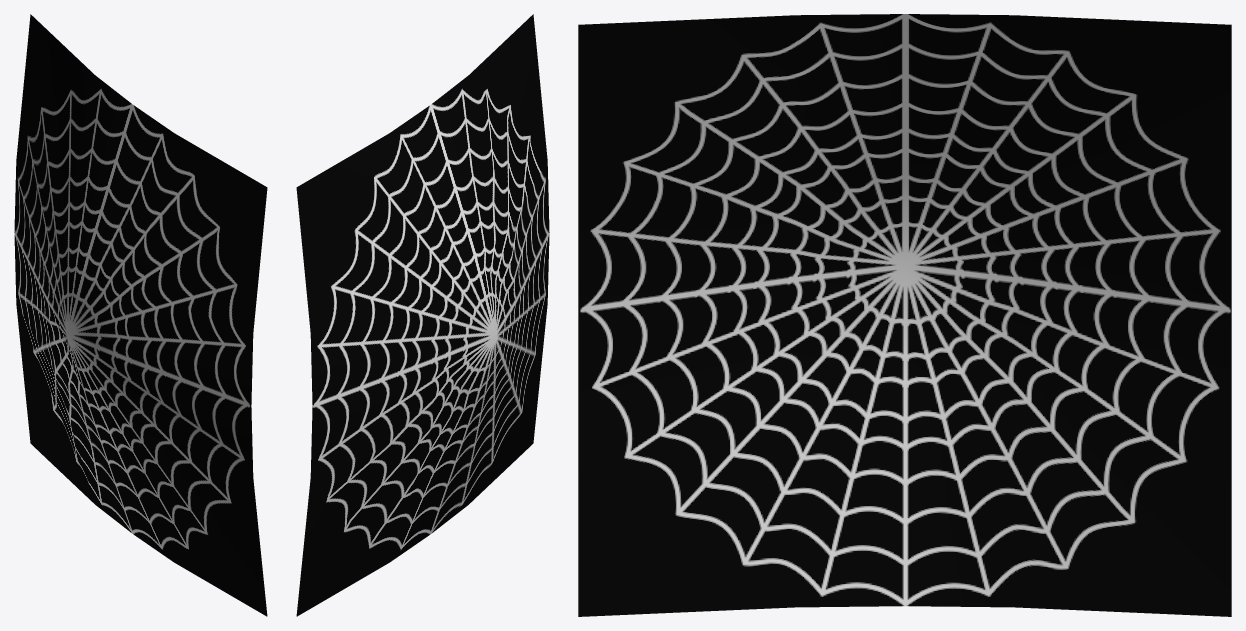
File: Telaraña.fbx
3 renders of one model, left to right at view 1: azimuth 30°, elevation 25°; view 2: azimuth 150°, elevation 25°; view 3: azimuth 270°, elevation 25°, orthographic. The views are drawn at different scales.
Parts seen in each view (by area): view 1: Telaraña; view 2: Telaraña; view 3: Telaraña.
Part boxes in pixels (x1=…): Telaraña: x1=14, y1=14, x2=267, y2=616; Telaraña: x1=296, y1=14, x2=549, y2=616; Telaraña: x1=578, y1=14, x2=1231, y2=616.
Size of the model in its own units: 5.93 by 30 by 30.
